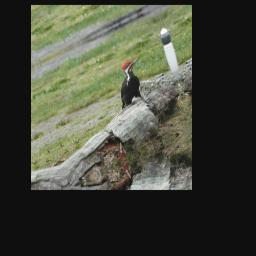Woodpecker: (110, 53, 152, 113)
